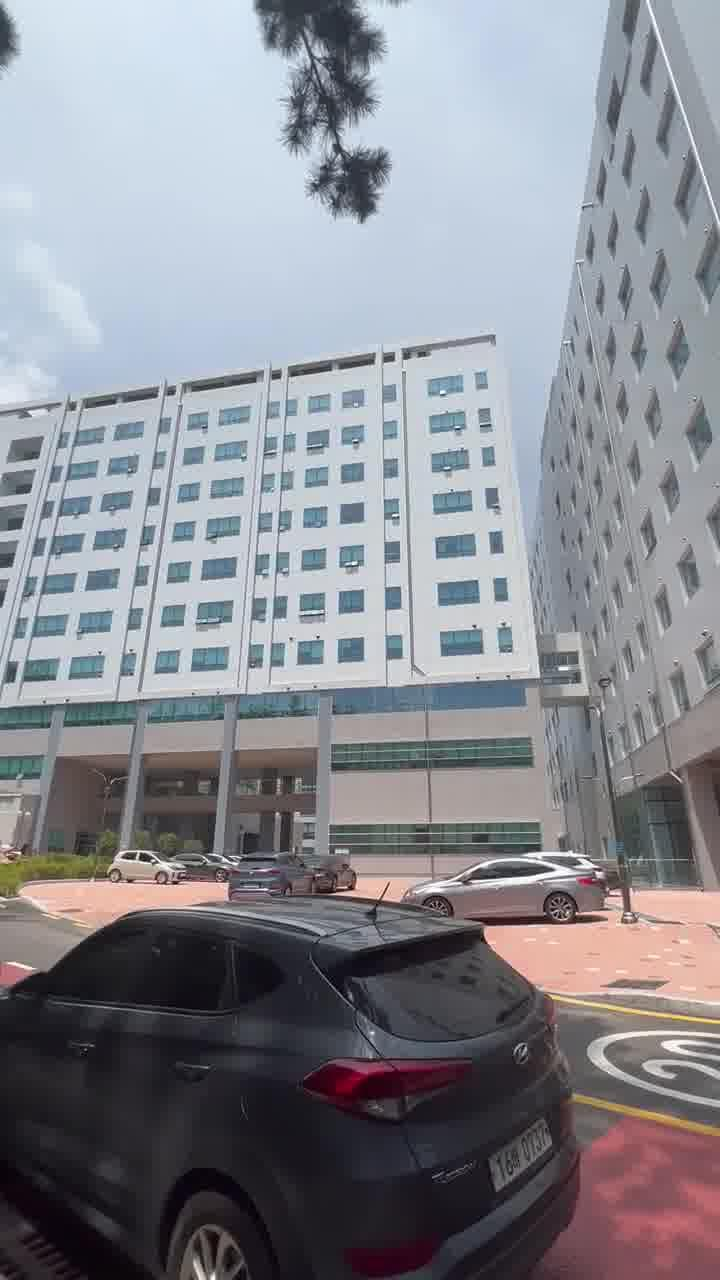building: (4, 336, 542, 796)
